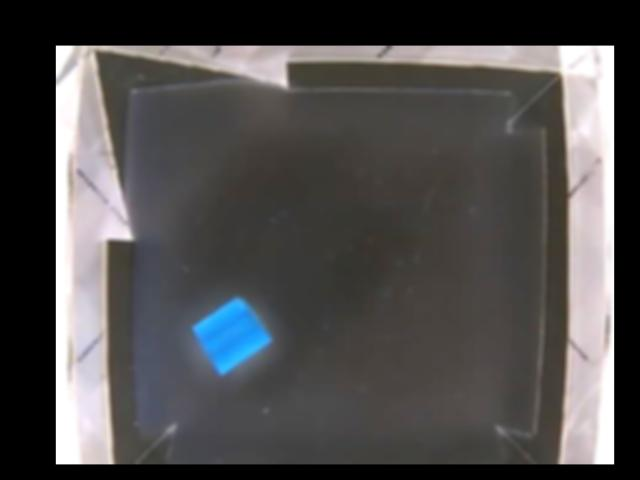Carrot: (192, 296, 272, 371)
